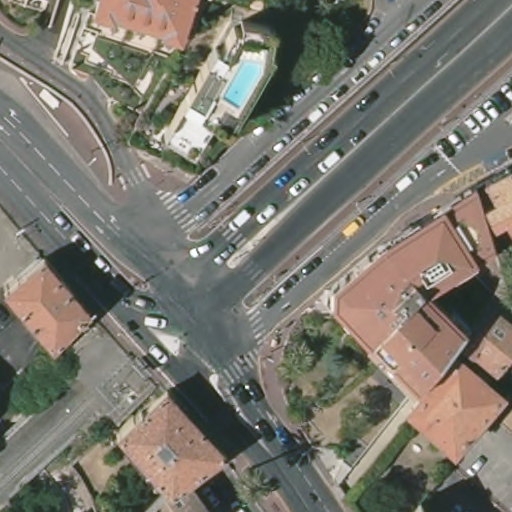pool: (222, 59, 266, 108)
